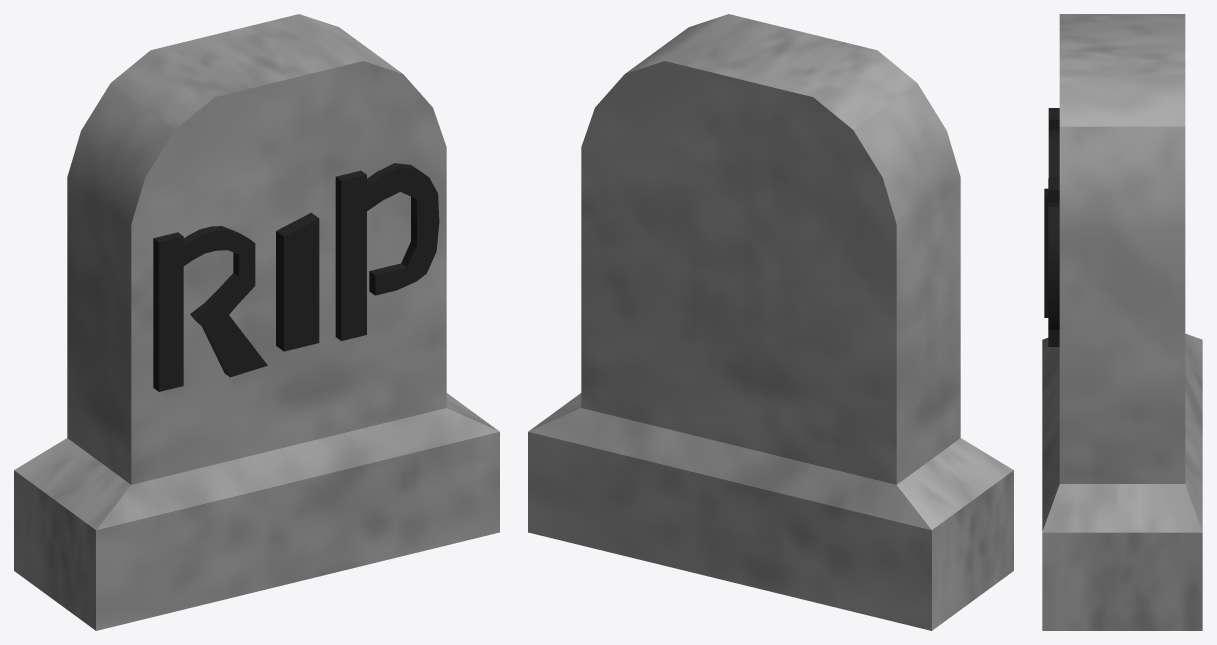
The model's file is Tumulo.fbx.
The picture shows the model from 3 angles, left to right: view 1: azimuth 30°, elevation 25°; view 2: azimuth 150°, elevation 25°; view 3: azimuth 270°, elevation 25°; orthographic projection. The views are drawn at different scales.
Parts seen in each view (by area): view 1: Tumba; view 2: Tumba; view 3: Tumba.
Part boxes in pixels (<box>): Tumba: <box>14,14,499,630</box>; Tumba: <box>528,14,1013,630</box>; Tumba: <box>1042,14,1202,630</box>.
Size of the model in its own units: 13.75 by 16.13 by 4.84.
Materials: 1 (1 with a texture image).
